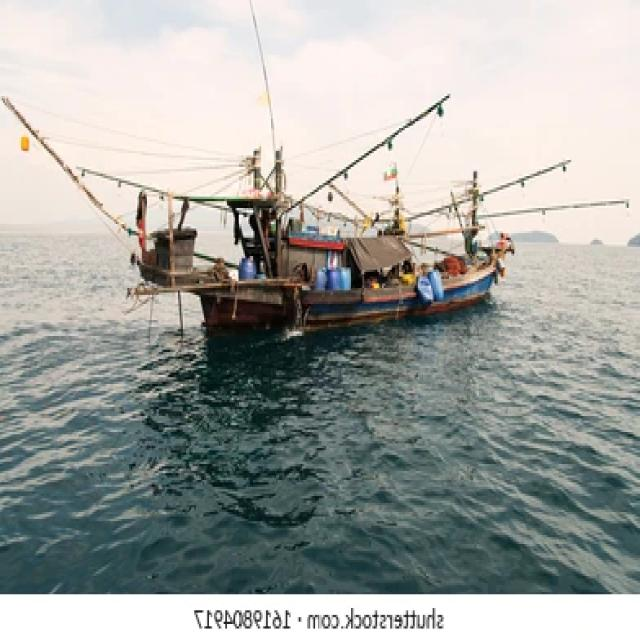Fishing Boat: (75, 56, 592, 388)
